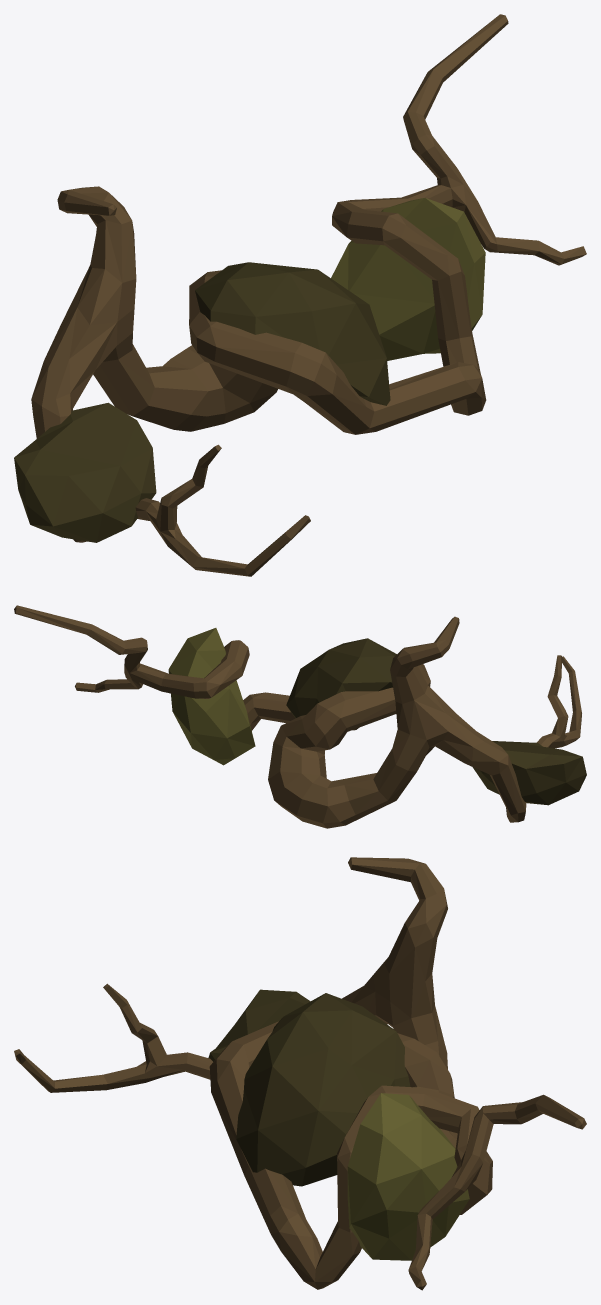
The model's file is EM_Branch05a.fbx.
3 views of the same model, one above another, from view 1: azimuth 30°, elevation 25°; view 2: azimuth 150°, elevation 25°; view 3: azimuth 270°, elevation 25° (orthographic). The views are drawn at different scales.
Visible parts, largest first — view 1: EM_Branch05a_LOD0; view 2: EM_Branch05a_LOD0; view 3: EM_Branch05a_LOD0.
Part boxes in pixels (<box>): EM_Branch05a_LOD0: <box>14,14,586,576</box>; EM_Branch05a_LOD0: <box>14,605,586,828</box>; EM_Branch05a_LOD0: <box>14,857,586,1290</box>.
Size of what is drawn, in the model's own units: 5.55 by 2.46 by 4.41.
